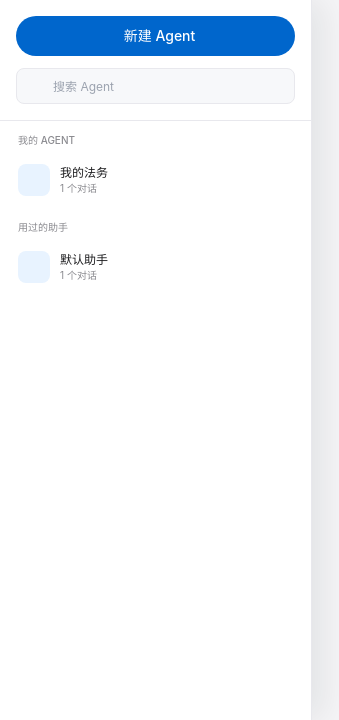
Test: AgentRail 列表态 › 搜索按名字过滤，两组一起收窄
Type "法务" into the field with placeholder "搜索 Agent". click: (156,86)
box: [16, 68, 295, 104]
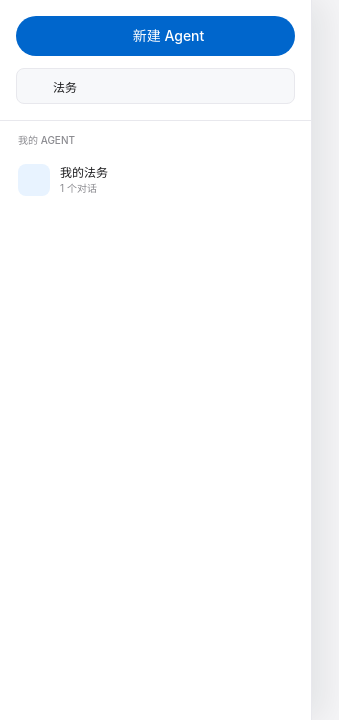
Expected: the text "我的法务" is shown, [60, 164, 108, 180]
Expected: the button "默认助手" is gone
